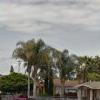Tree: (13, 27, 76, 87)
